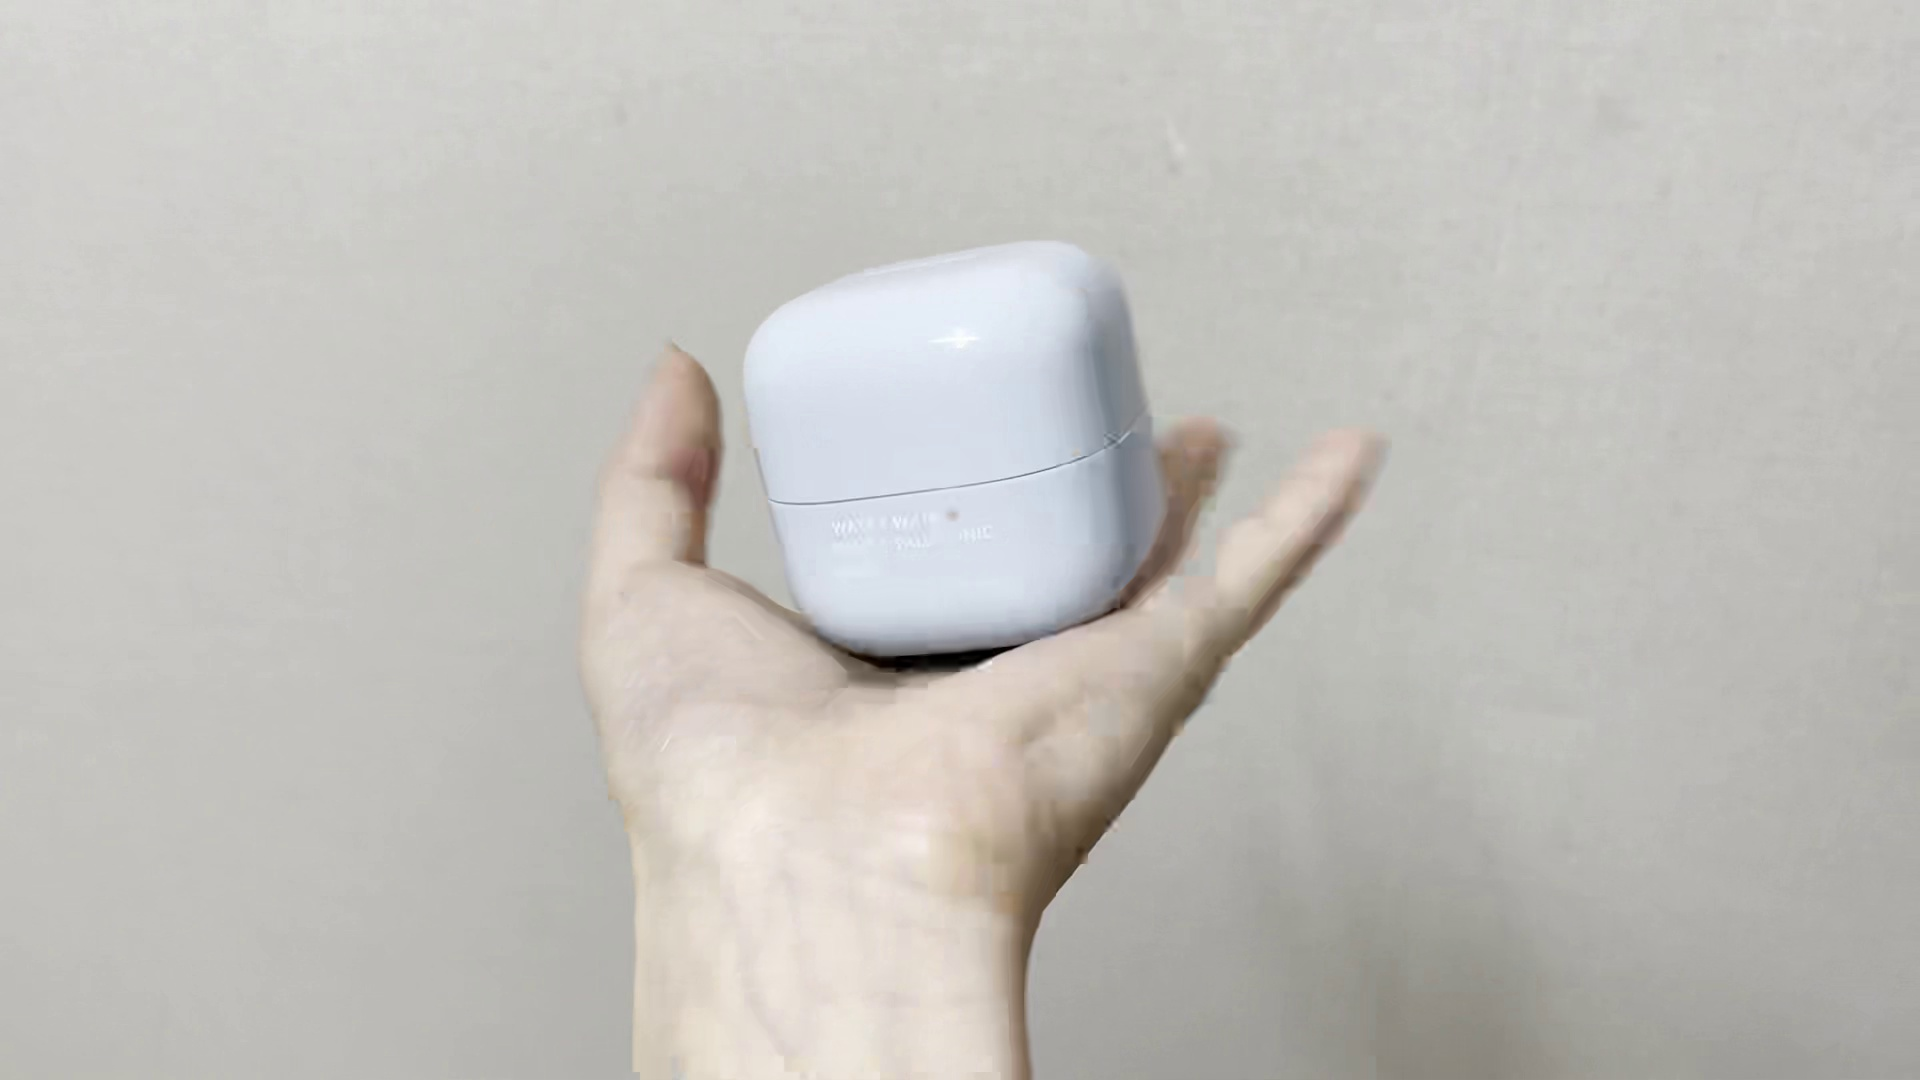cream: (746, 235, 1164, 659)
